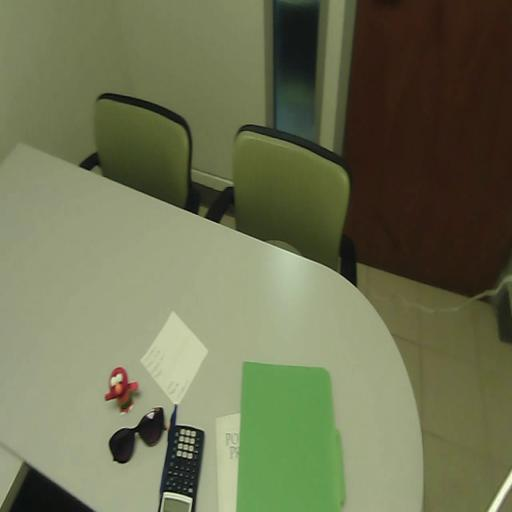pen: (160, 404, 177, 497)
